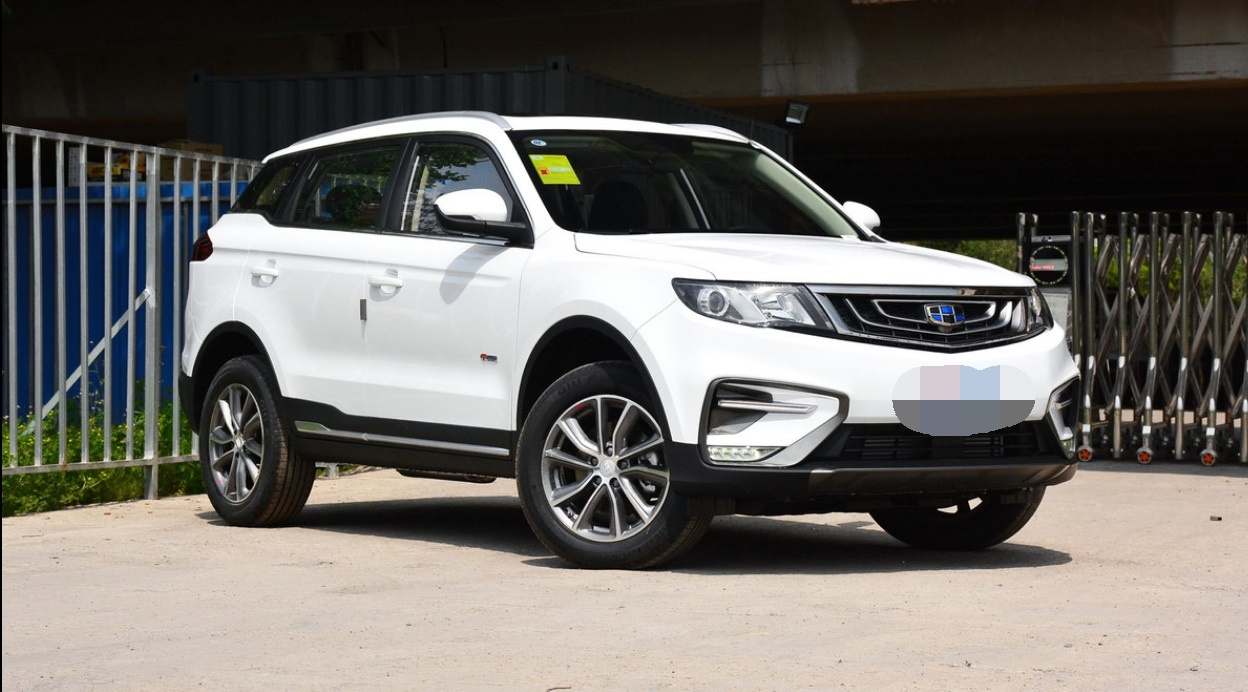SUV: (183, 96, 1079, 589)
